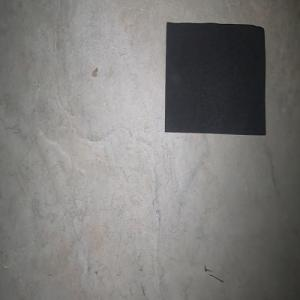PaintChip: (164, 21, 265, 135)
